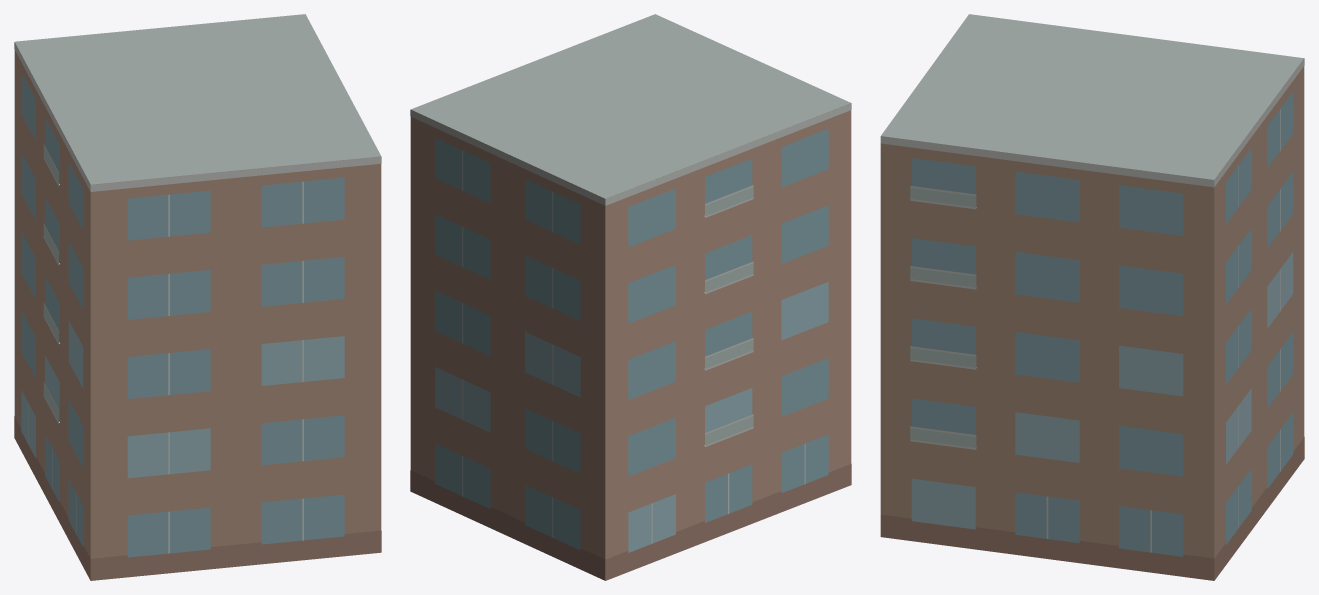
File: survey-upis-32539498.glb
3 renders of one model, left to right at view 1: azimuth 30°, elevation 25°; view 2: azimuth 150°, elevation 25°; view 3: azimuth 270°, elevation 25°, orthographic. The views are drawn at different scales.
Parts seen in each view (by area): view 1: survey-upis-32539498.tmp; view 2: survey-upis-32539498.tmp; view 3: survey-upis-32539498.tmp.
Boxes of the visible parts, bbox=[...] form: survey-upis-32539498.tmp: bbox=[14, 14, 381, 580]; survey-upis-32539498.tmp: bbox=[410, 14, 851, 580]; survey-upis-32539498.tmp: bbox=[880, 14, 1304, 580].
Bounding box in the file's own units: 11.73 × 13.2 × 12.65.
